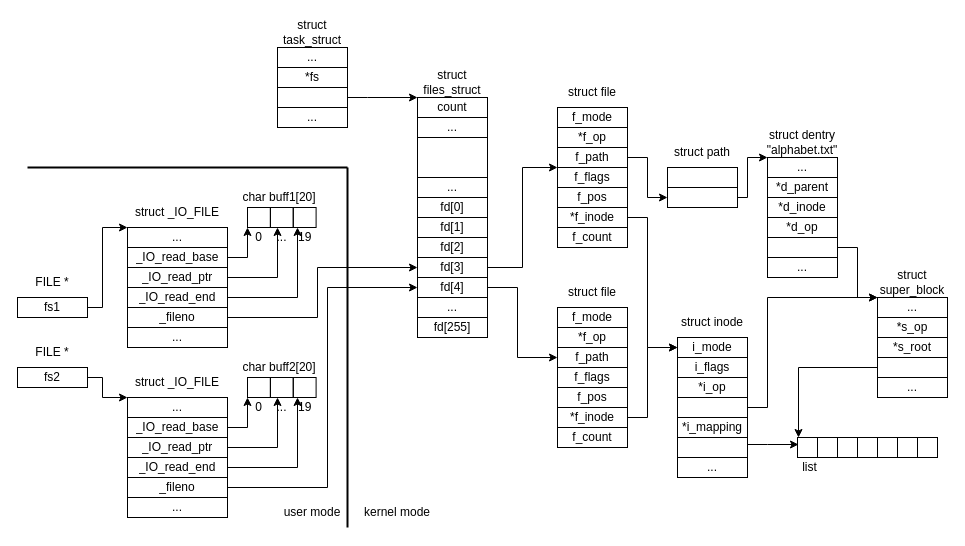
This 965x546 diagram has some shape labels left out. The centre of each missing label's shape, as x and y in pixels:
*d_sb: point 802,247
*dentry: point 702,197
*files: point 312,97
*i_sb: point 712,407
*i_sb_list: point 712,447
*mnt: point 702,177
close_on_ exec_init[1]: point 452,157
s_inodes: point 912,367
